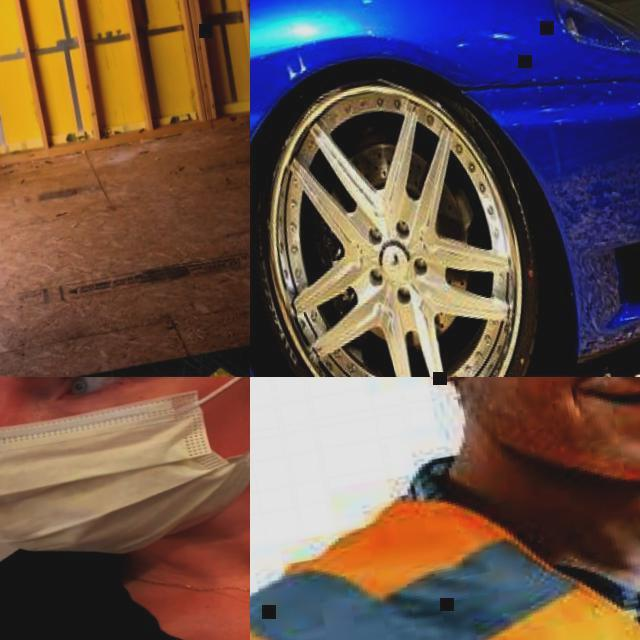mask: (0, 377, 250, 580)
no_mask: (424, 377, 640, 515)
no_vest: (0, 483, 250, 640)
person: (250, 377, 640, 640), (0, 377, 250, 640)
vehicle: (250, 0, 640, 377)
vest: (250, 408, 640, 640)
